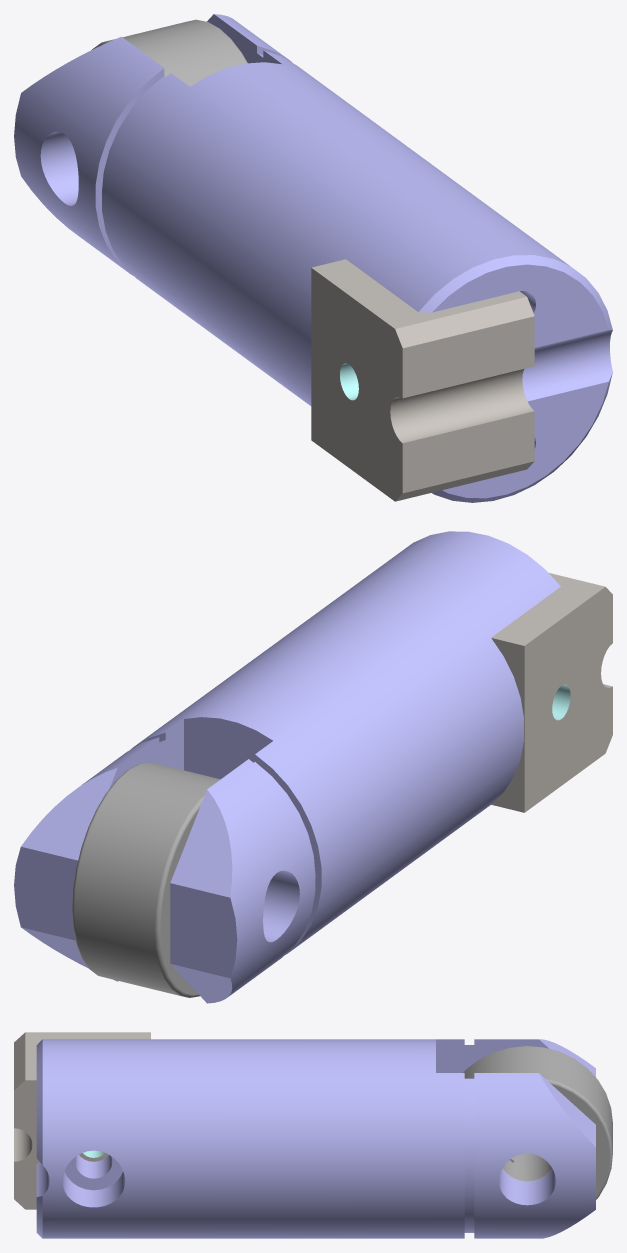
File: FerramentaCorte.obj
The picture shows the model from 3 angles, top to bottom: view 1: azimuth 30°, elevation 25°; view 2: azimuth 150°, elevation 25°; view 3: azimuth 270°, elevation 25°; orthographic projection. The views are drawn at different scales.
Parts seen in each view (by area): view 1: Corpo1, Corpo2, Corpo4; view 2: Corpo1, Corpo4, Corpo2; view 3: Corpo1, Corpo4, Corpo2, Corpo3.
Part boxes in pixels (box(x1,y1,x2,y2)): Corpo1: box(14, 14, 612, 502); Corpo2: box(311, 259, 534, 501); Corpo4: box(92, 19, 247, 86); Corpo1: box(14, 531, 560, 1003); Corpo4: box(72, 762, 220, 997); Corpo2: box(491, 573, 612, 812); Corpo1: box(36, 1039, 595, 1238); Corpo4: box(463, 1046, 612, 1199); Corpo2: box(14, 1032, 150, 1209); Corpo3: box(502, 1153, 552, 1181).
Bounding box in the file's own units: 35 × 34.95 × 105.
